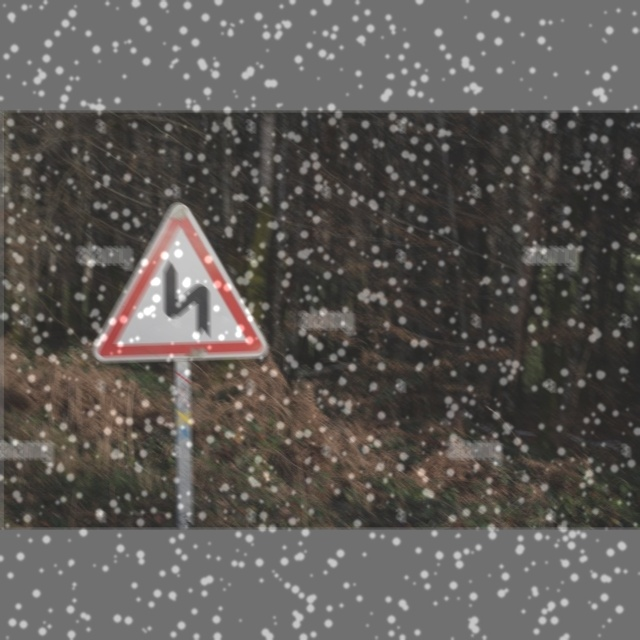Left_Reverse_Bend: (86, 194, 272, 367)
